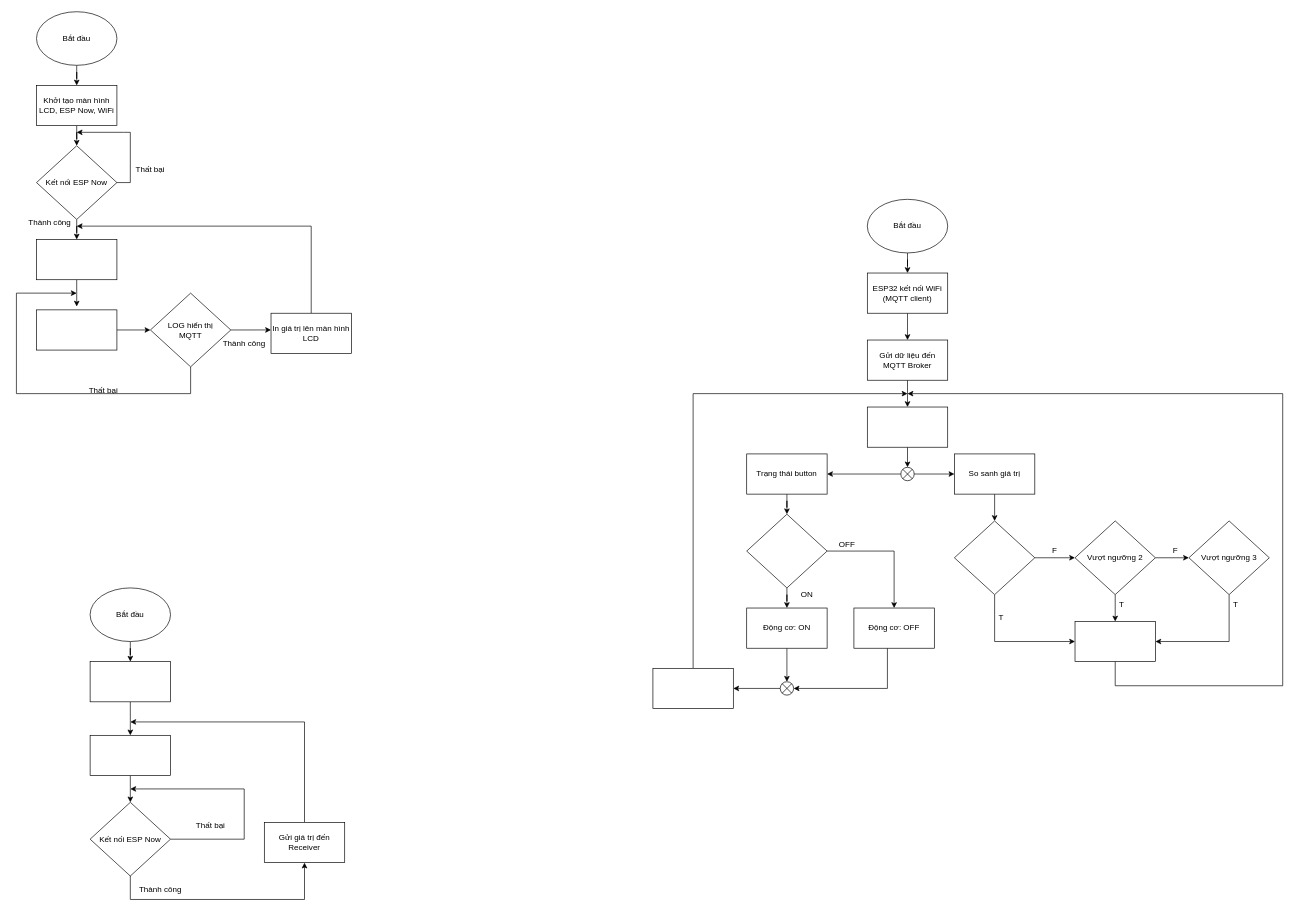
Image size: 1300x917. Some labels were removed from this diagram. The shapes that lost their labels are listed below. From the top down, each one's box as (x1, y1, x2, y2) in pixels, then its label:
(36, 239, 117, 280): Nhận dữ liệu từ Sender
(36, 309, 117, 350): Gửi giá trị lên MQTT
(867, 406, 948, 447): Hiển thị dữ liệu trên Web dashboard
(746, 514, 827, 588): Kiểm tra
(954, 520, 1035, 595): Vượt ngưỡng 1
(1074, 621, 1155, 662): Hiển thị thông báo
(89, 661, 171, 702): Khởi tạo cảm biến và ESP Now
(652, 668, 733, 709): Gửi dữ liệu về ESP điều khiển
(89, 735, 171, 776): Đọc giá trị cảm biến
